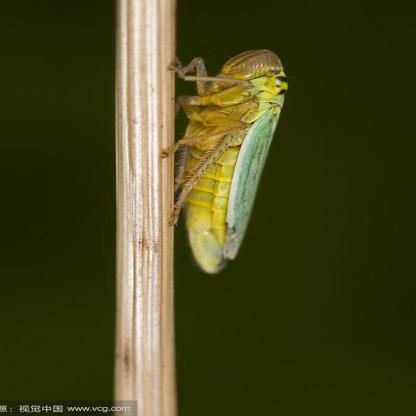Green-Leafhopper: (159, 42, 294, 278)
